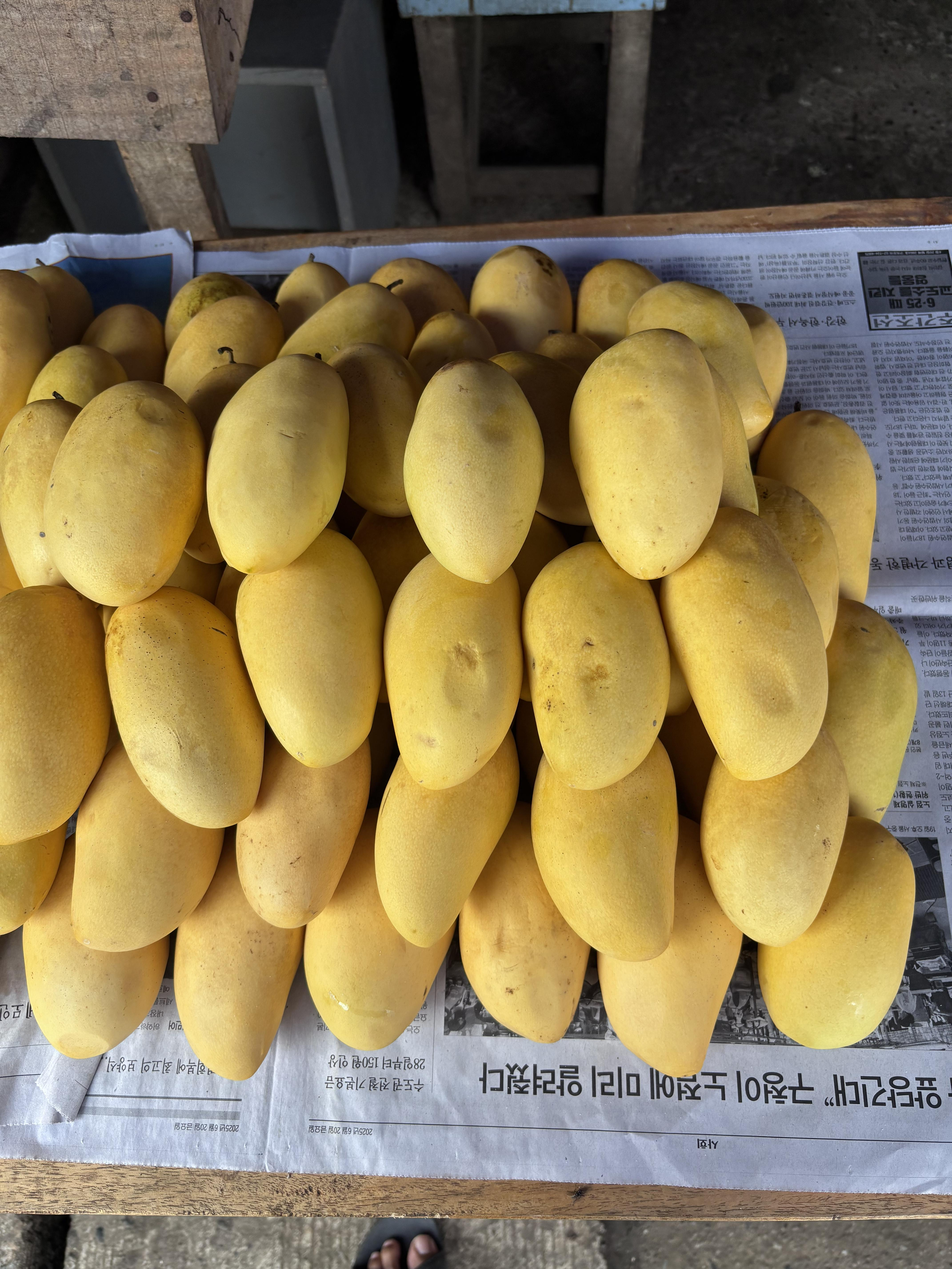mango: (43, 381, 205, 605), (404, 359, 544, 583), (207, 354, 348, 573)
occluded: (660, 507, 827, 780), (105, 587, 265, 828), (570, 328, 723, 579), (598, 817, 742, 1078), (522, 542, 670, 790), (758, 817, 915, 1048), (304, 809, 453, 1050), (236, 527, 383, 768), (384, 554, 523, 789), (531, 740, 678, 962), (71, 741, 224, 952), (22, 839, 168, 1059), (701, 729, 848, 946), (459, 803, 589, 1043), (375, 732, 519, 947), (174, 842, 303, 1080), (0, 587, 111, 846), (236, 735, 371, 928), (758, 410, 877, 601), (627, 281, 772, 437), (824, 597, 917, 821), (491, 351, 591, 525), (329, 343, 423, 517), (0, 398, 80, 586), (754, 475, 839, 645), (164, 297, 283, 399), (469, 245, 572, 352), (278, 283, 415, 362), (0, 270, 53, 437), (352, 511, 429, 623), (187, 347, 257, 459), (575, 259, 660, 350), (708, 363, 758, 514), (0, 822, 66, 935), (370, 257, 468, 333), (165, 272, 258, 352), (82, 304, 166, 382), (409, 310, 497, 384), (25, 259, 94, 352), (28, 344, 127, 408), (276, 255, 348, 340), (736, 304, 787, 410), (512, 512, 568, 603), (535, 331, 602, 376), (185, 496, 223, 563), (666, 645, 692, 716), (521, 675, 529, 700)
